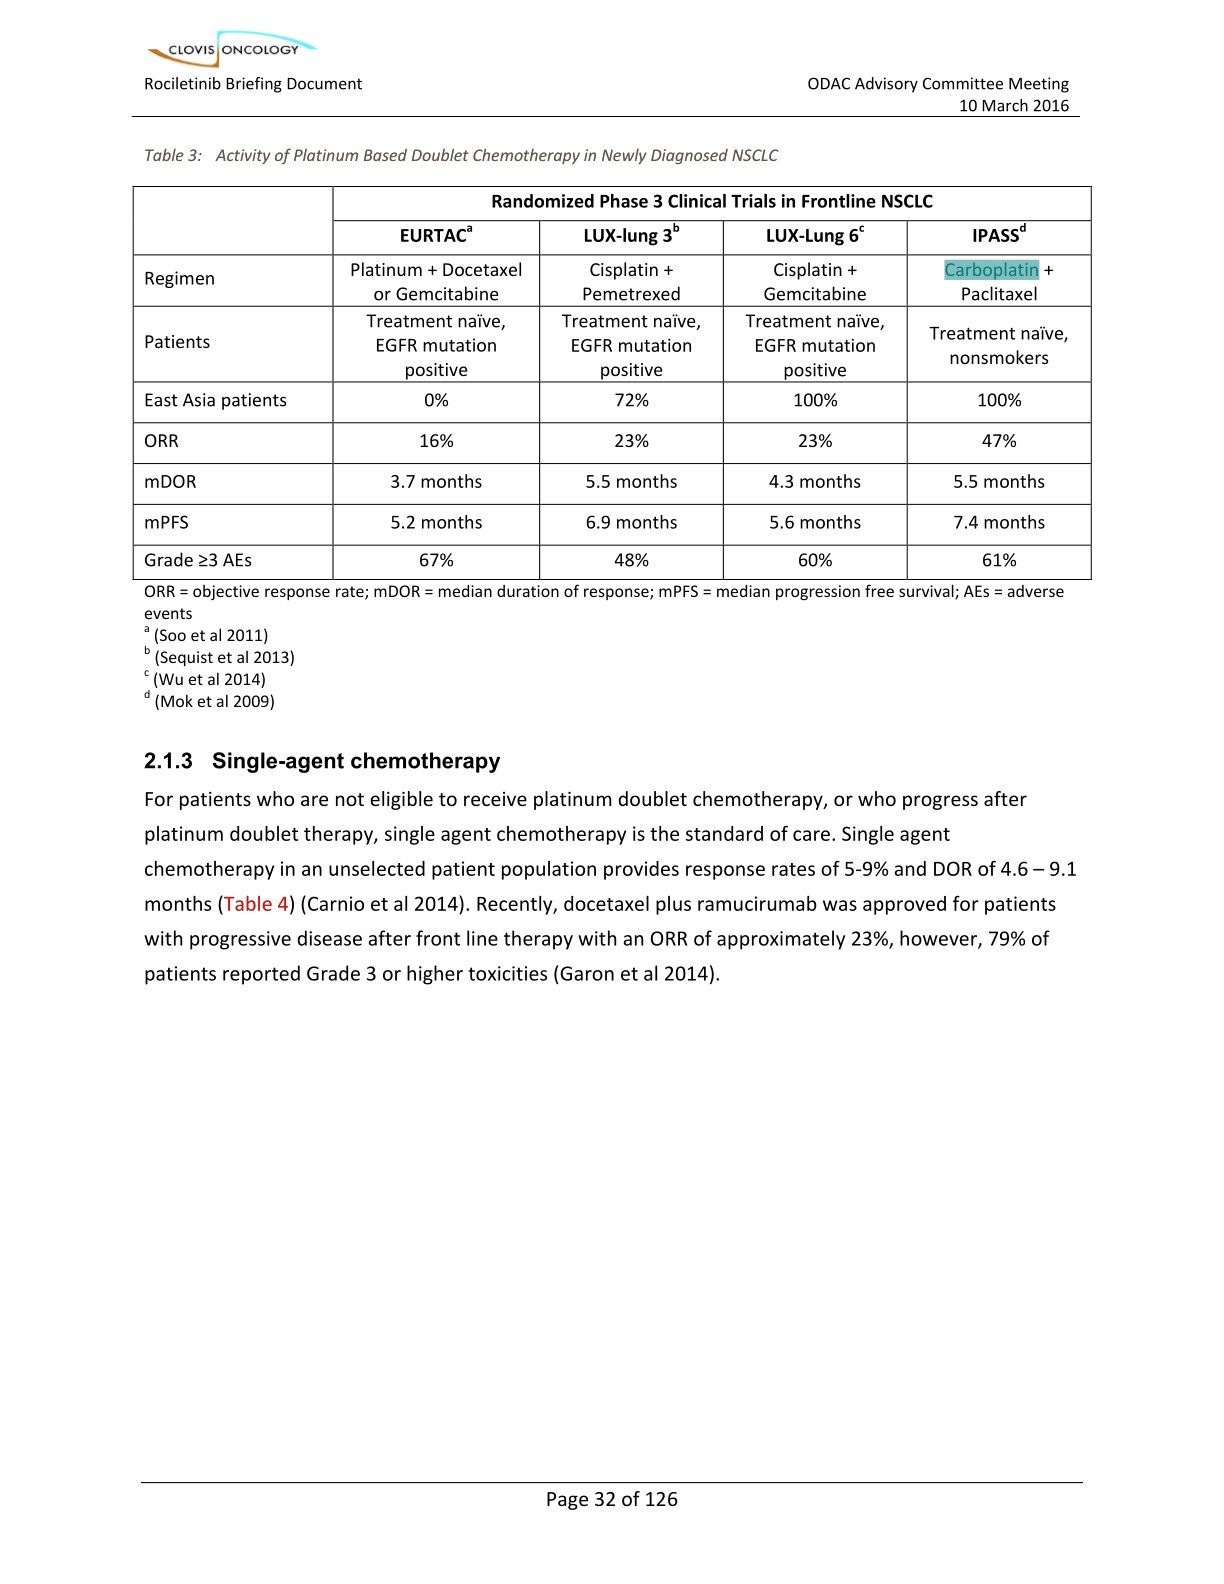merged_cells: (131, 185, 1093, 581)
